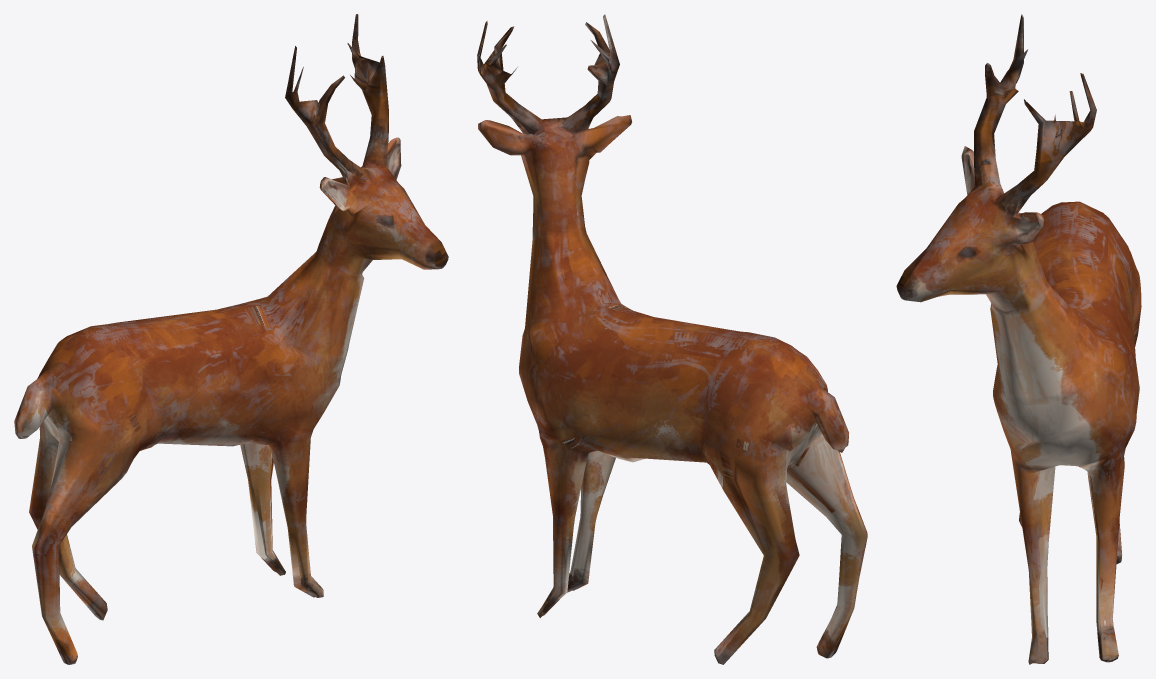
File: deer.fbx
3 renders of one model, left to right at view 1: azimuth 30°, elevation 25°; view 2: azimuth 150°, elevation 25°; view 3: azimuth 270°, elevation 25°, orthographic. The views are drawn at different scales.
Visible parts, largest first — view 1: Deer_Low; view 2: Deer_Low; view 3: Deer_Low.
Boxes of the visible parts, x1,y1,x2,y2 form: Deer_Low: (14, 14, 448, 664); Deer_Low: (477, 14, 867, 664); Deer_Low: (896, 14, 1141, 664).
Size of the model in its own units: 153 by 222 by 77.06.
1 material, 1 textured.
